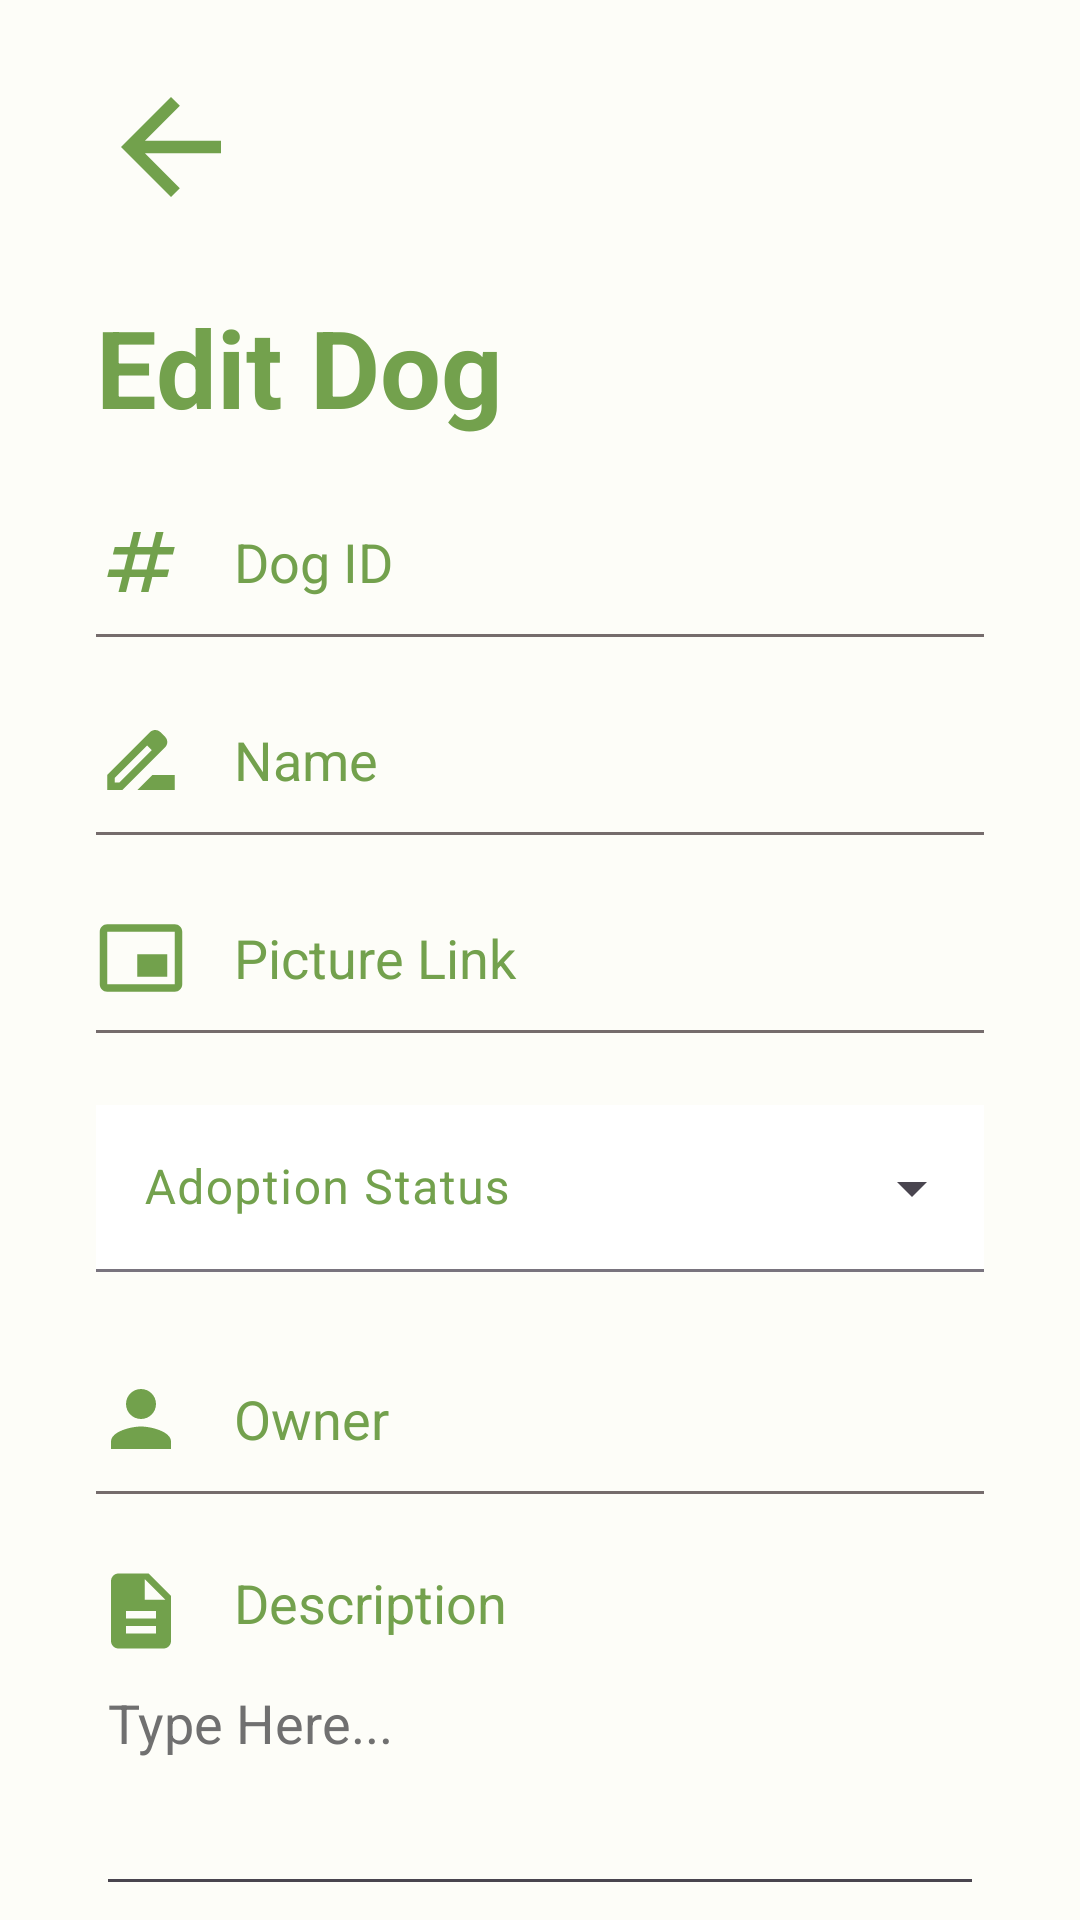

Where to tap for icons on this 1080w x 1920h app screen, as (x,y):
back: (171,147)
